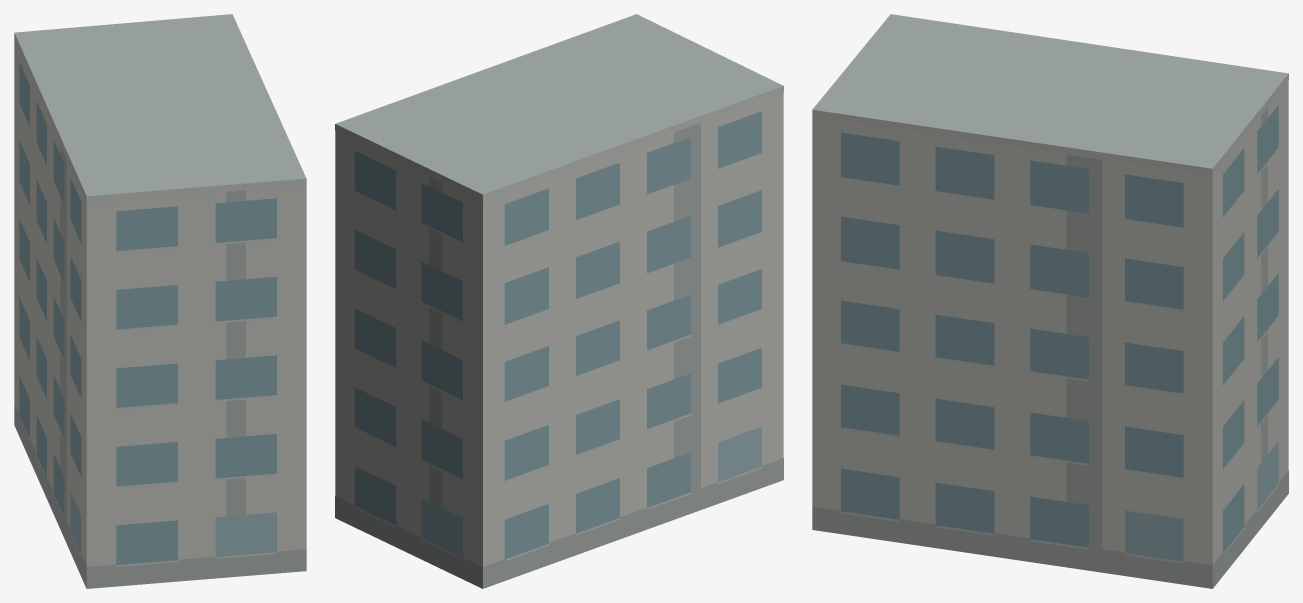
The model's file is survey-upis-32707449.glb.
3 views of the same model, side by side, from view 1: azimuth 30°, elevation 25°; view 2: azimuth 150°, elevation 25°; view 3: azimuth 270°, elevation 25° (orthographic). The views are drawn at different scales.
Visible parts, largest first — view 1: survey-upis-32707449.tmp; view 2: survey-upis-32707449.tmp; view 3: survey-upis-32707449.tmp.
Part boxes in pixels (x1,y1,x2,y2): survey-upis-32707449.tmp: (14, 14, 306, 588); survey-upis-32707449.tmp: (335, 14, 783, 588); survey-upis-32707449.tmp: (812, 14, 1288, 588).
Bounding box in the file's own units: 11.07 × 14 × 14.4.
